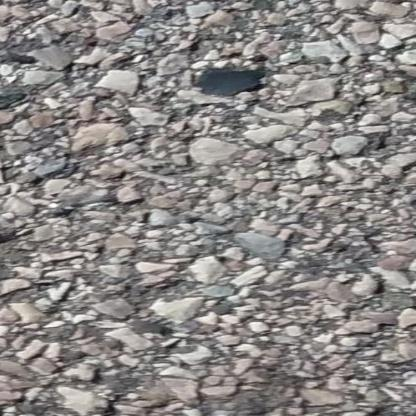Cracks: (0, 399, 39, 416), (374, 405, 416, 416)
